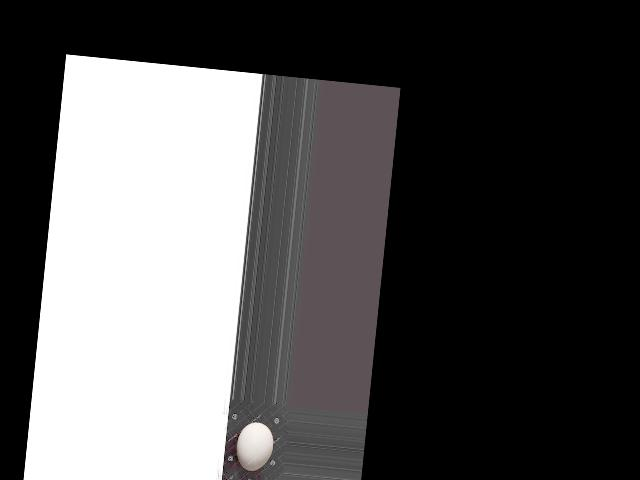egg: (234, 419, 275, 472)
